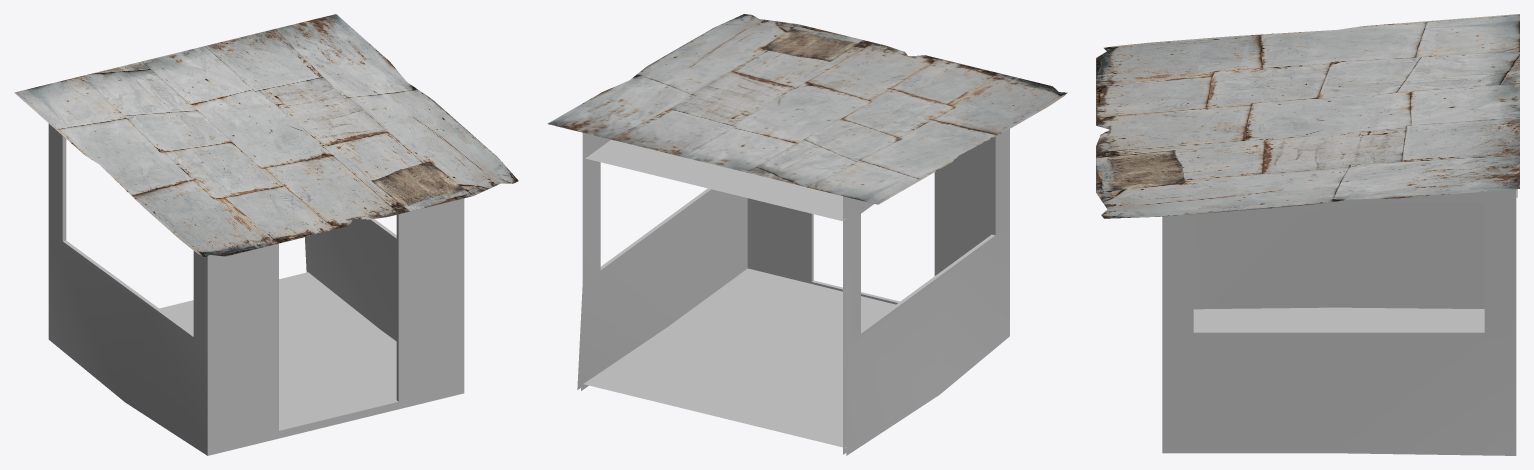
Rendered from Porch_04.fbx.
3 views of the same model, side by side, from view 1: azimuth 30°, elevation 25°; view 2: azimuth 150°, elevation 25°; view 3: azimuth 270°, elevation 25° (orthographic). The views are drawn at different scales.
Parts seen in each view (by area): view 1: Porch_04; view 2: Porch_04; view 3: Porch_04.
Boxes of the visible parts, x1,y1,x2,y2 form: Porch_04: [14, 14, 518, 455]; Porch_04: [547, 14, 1067, 455]; Porch_04: [1096, 14, 1519, 455].
Size of the model in its own units: 355 by 364 by 267.
